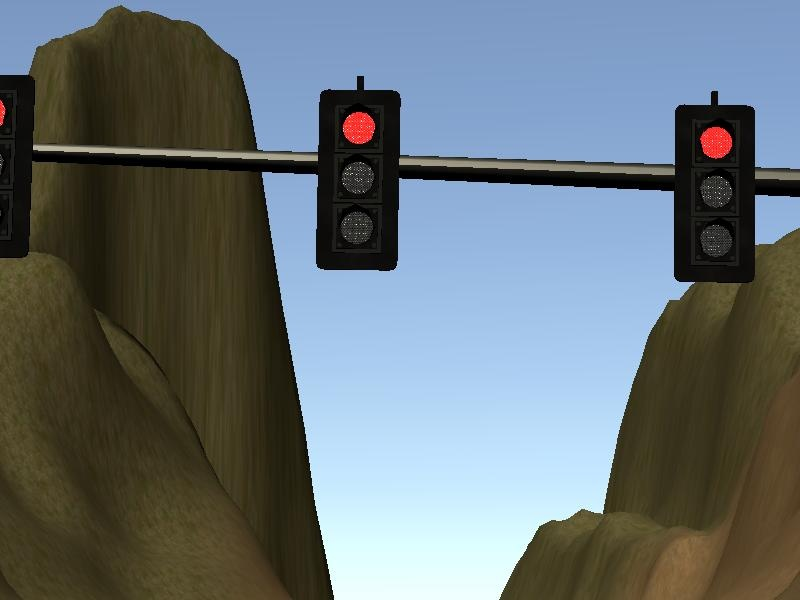RED: (315, 89, 402, 274), (671, 103, 756, 285)
